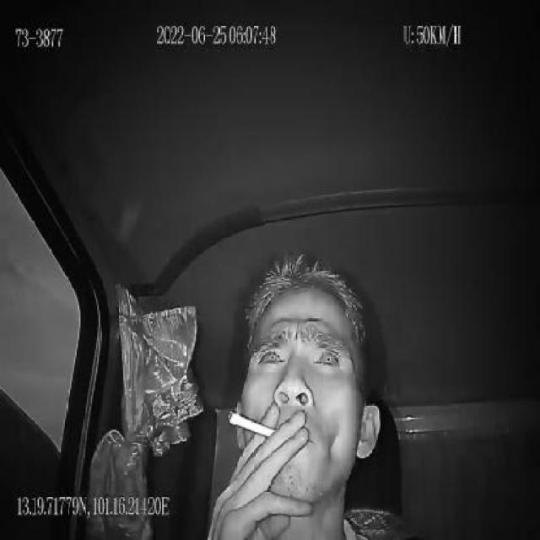smoking: (227, 406, 278, 443)
